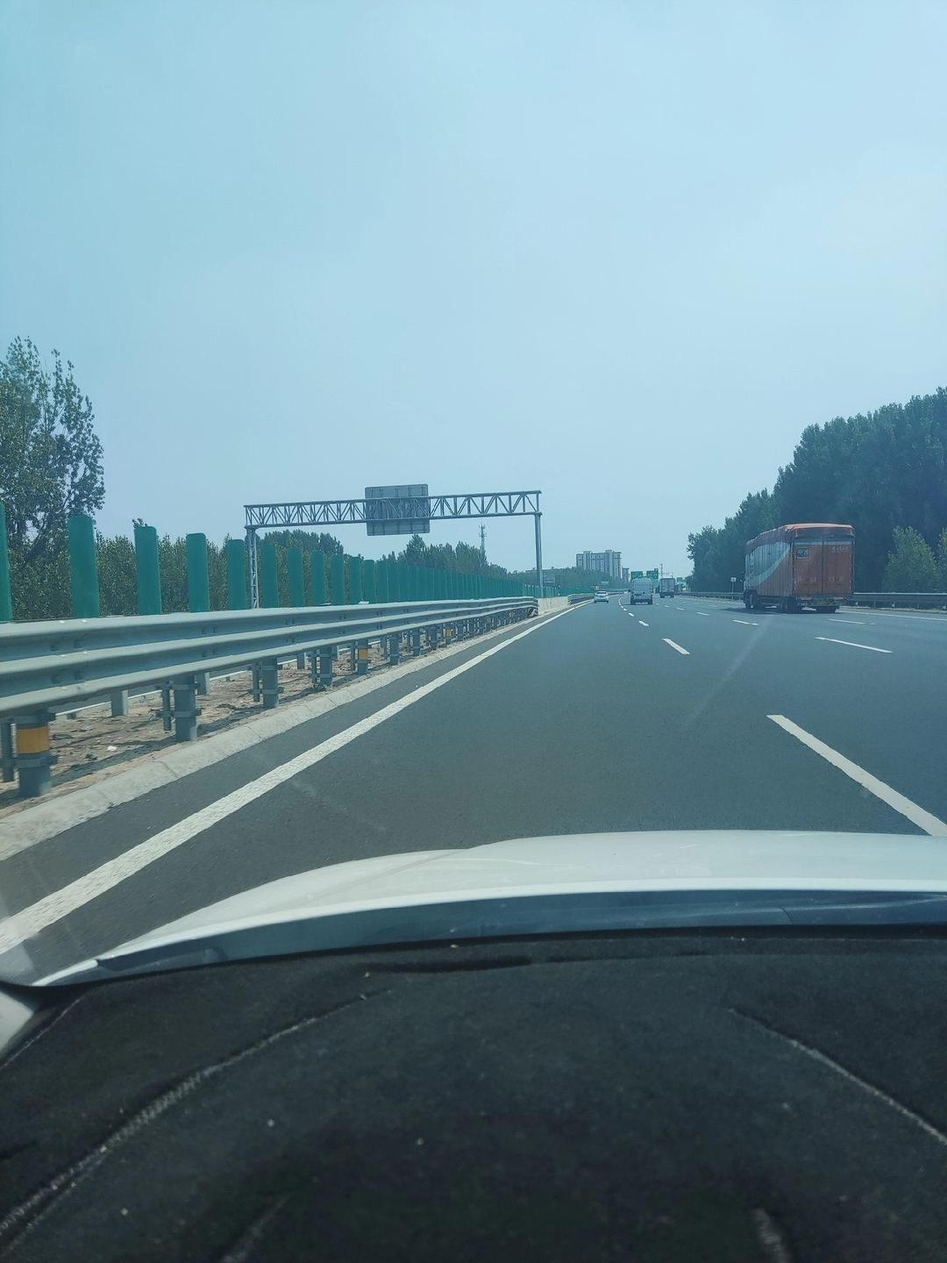lane: (1, 605, 566, 962), (756, 710, 936, 828), (810, 626, 892, 658), (660, 632, 689, 660)
